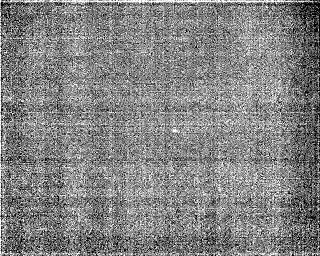AIRPLANE: (170, 125, 180, 137)
